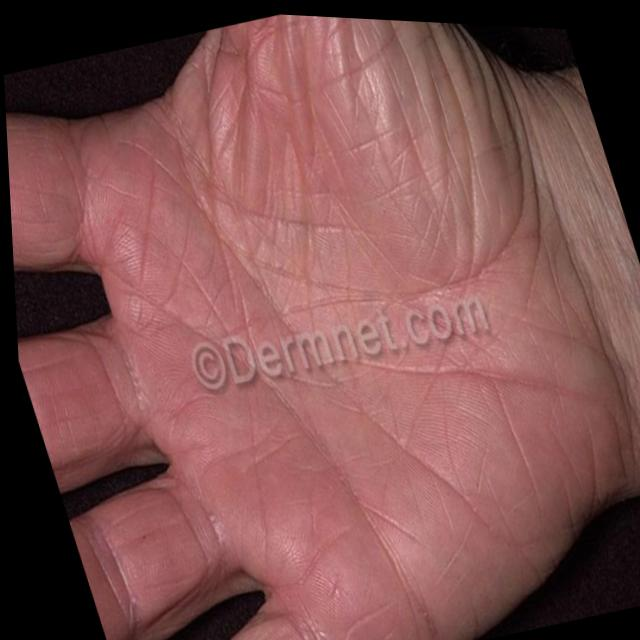liquenificacion 1: (6, 15, 640, 640)
